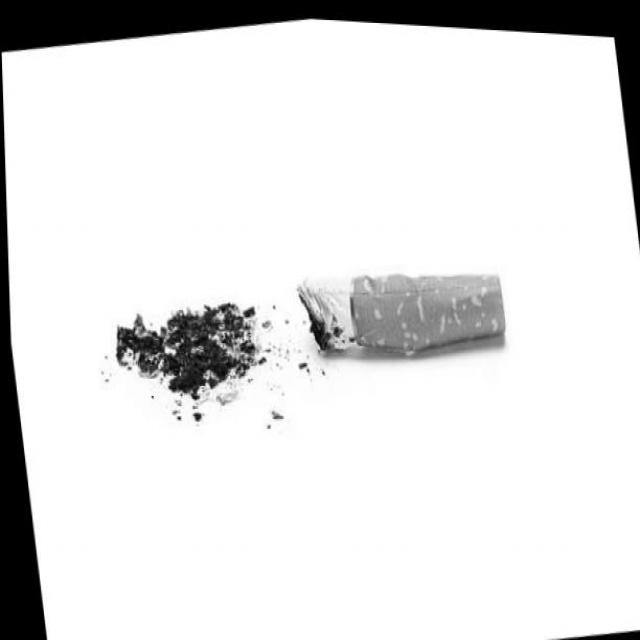cigarette: (290, 243, 507, 370)
